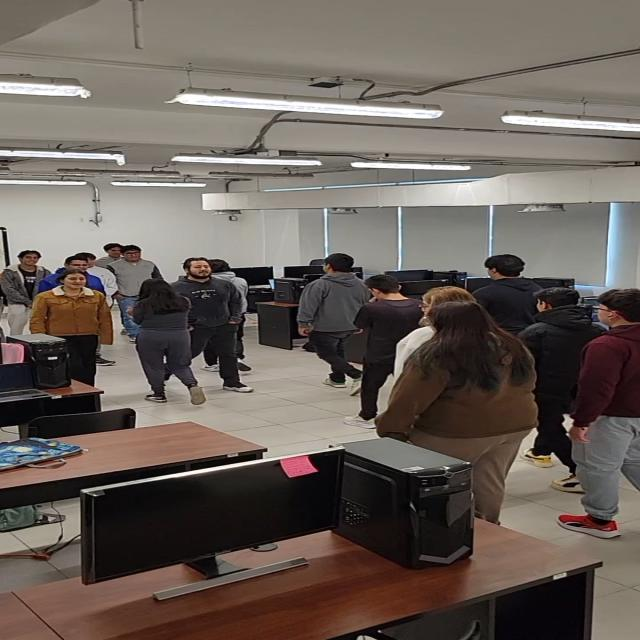Persona: (372, 299, 540, 534), (556, 288, 640, 540), (518, 285, 612, 492), (340, 272, 425, 432), (174, 256, 255, 394), (296, 252, 371, 398), (124, 278, 208, 406), (28, 271, 115, 388), (467, 254, 548, 332), (1, 248, 54, 335), (107, 240, 164, 301), (40, 254, 108, 296), (208, 258, 252, 318), (96, 242, 118, 271)
